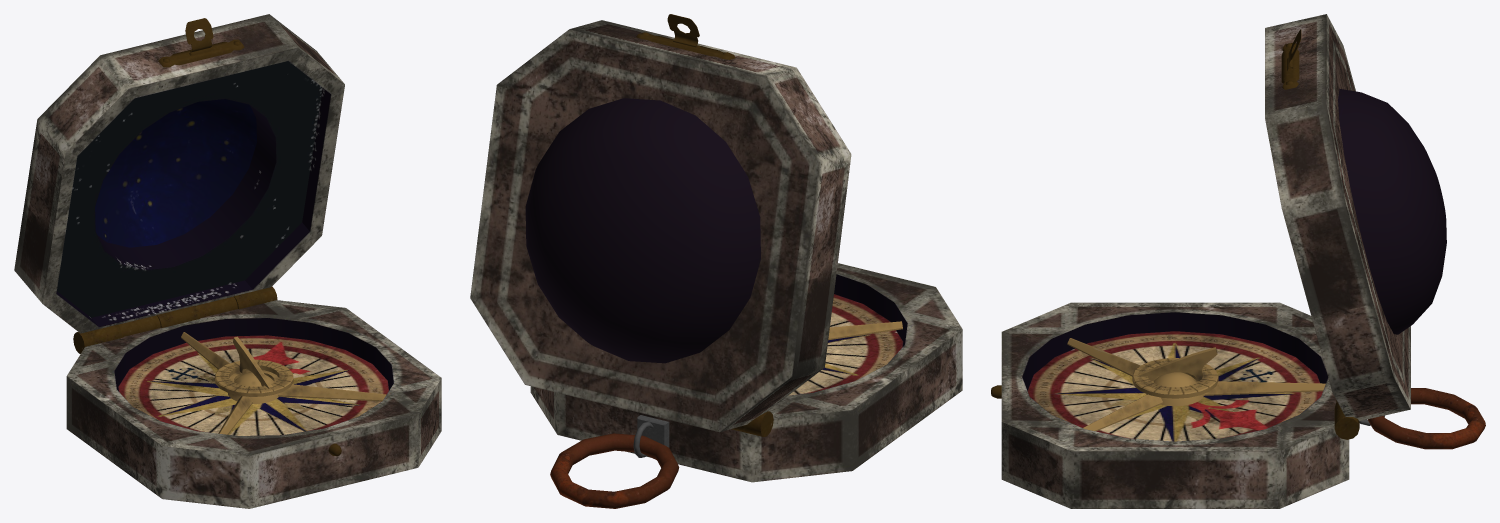
3 views of the same model, side by side, from view 1: azimuth 30°, elevation 25°; view 2: azimuth 150°, elevation 25°; view 3: azimuth 270°, elevation 25° (orthographic). The views are drawn at different scales.
Parts seen in each view (by area): view 1: Compass; view 2: Compass; view 3: Compass.
Part boxes in pixels (left/top/right/bottom): Compass: left=14, top=14, right=441, bottom=508; Compass: left=470, top=14, right=962, bottom=508; Compass: left=991, top=14, right=1485, bottom=508.
Bounding box in the file's own units: 3.13 × 3.94 × 4.41.
1 material, 1 textured.
